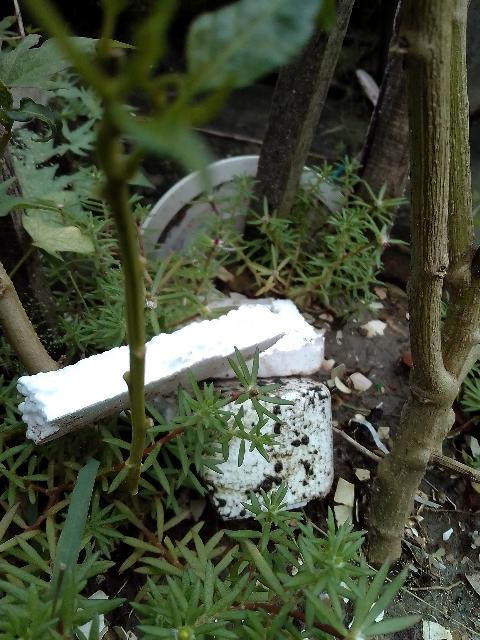cocksheet: (0, 296, 338, 561)
